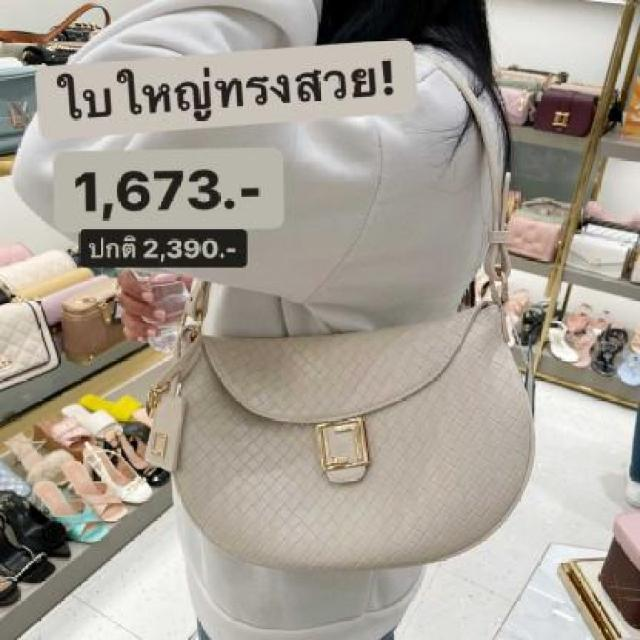Bag: (152, 207, 553, 578)
